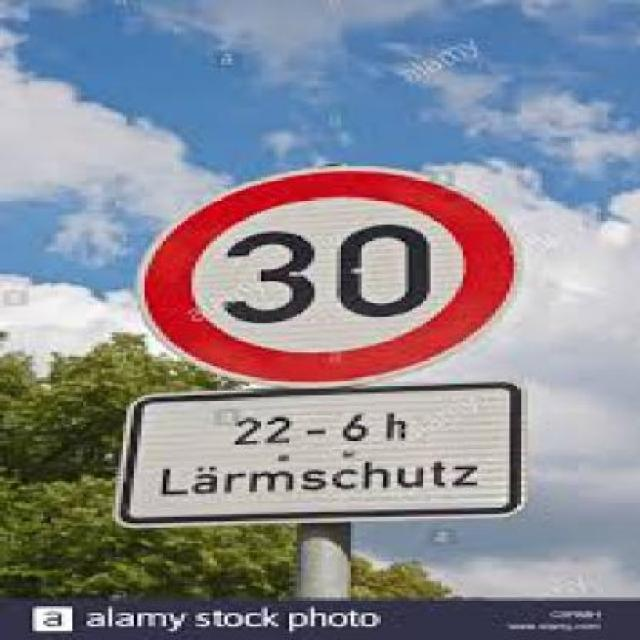forb_speed_over_30: (145, 171, 513, 386)
